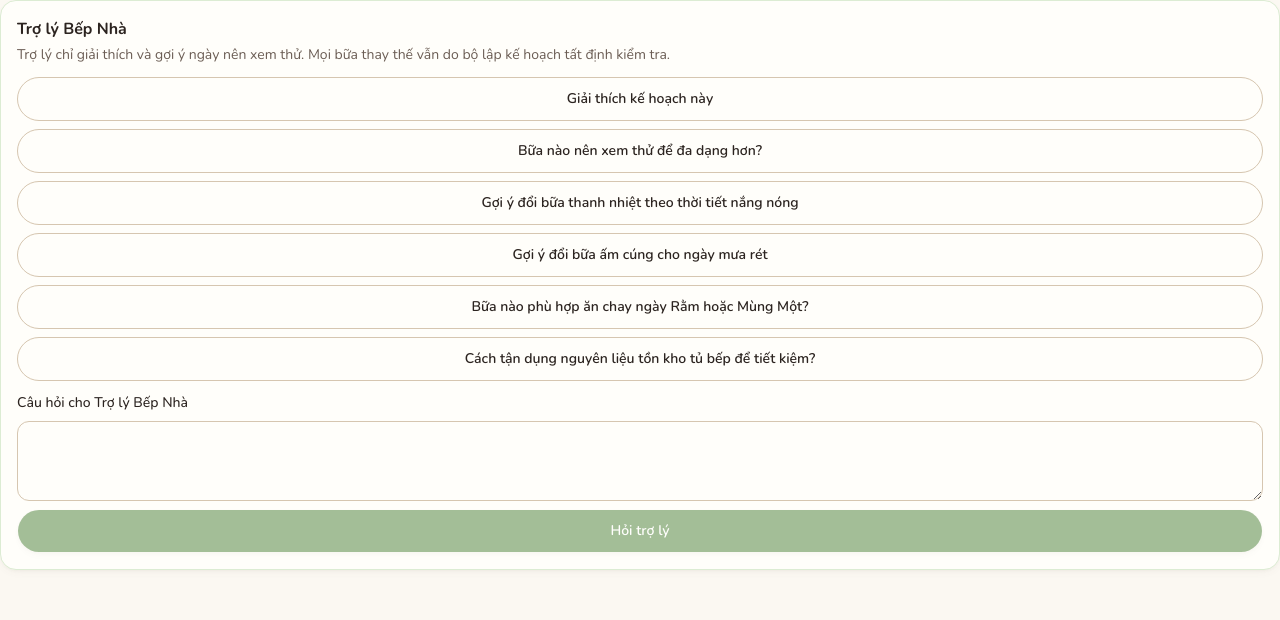
Test case: AssistantCard › shows bounded error state for STALE_ASSISTANT_CONTEXT
Click the button "Giải thích kế hoạch này".
click(640, 99)  # box [17,77,1263,121]
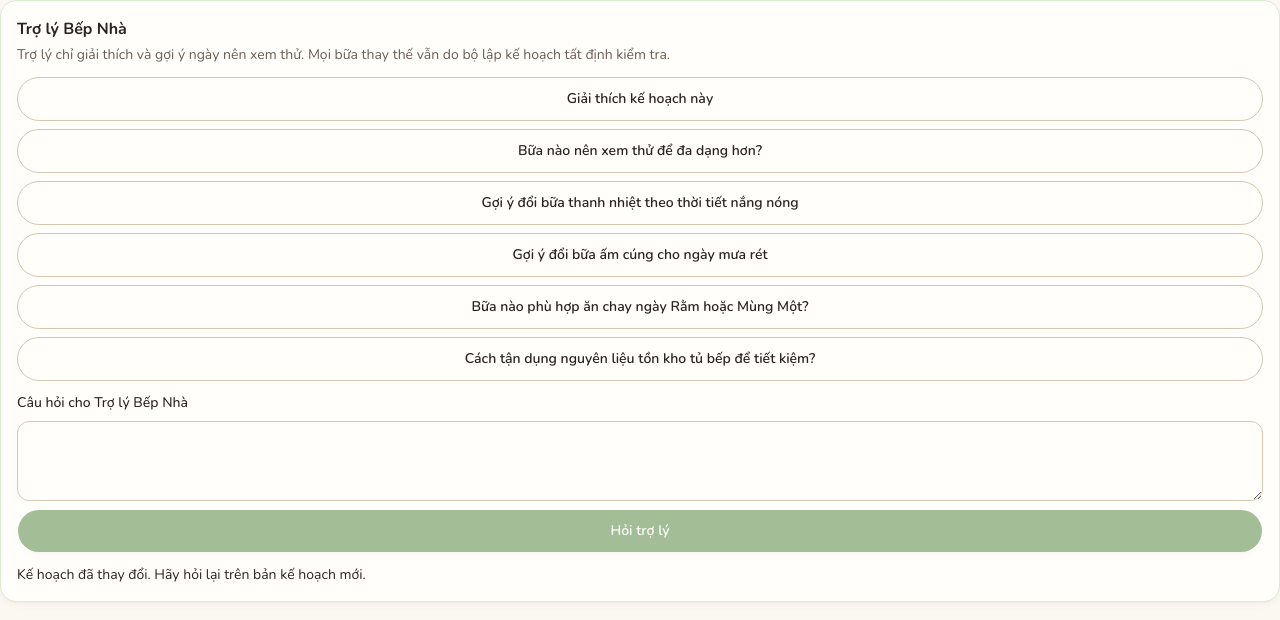
Result: the message reads "Kế hoạch đã thay đổi. Hãy hỏi lại trên bản kế hoạch mới." at [17,565,366,584]
